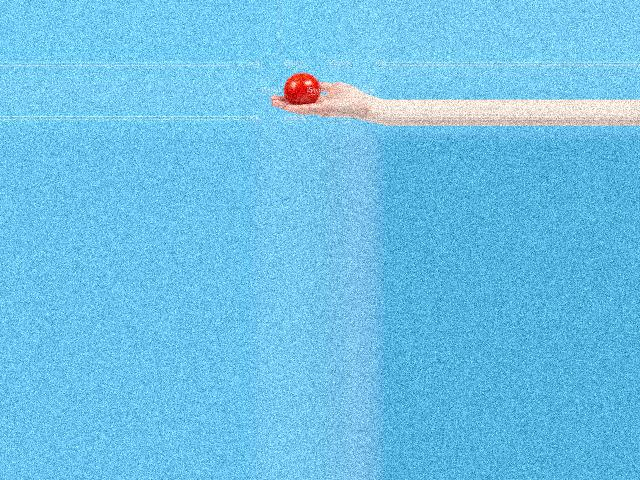tomato: (284, 73, 320, 104)
